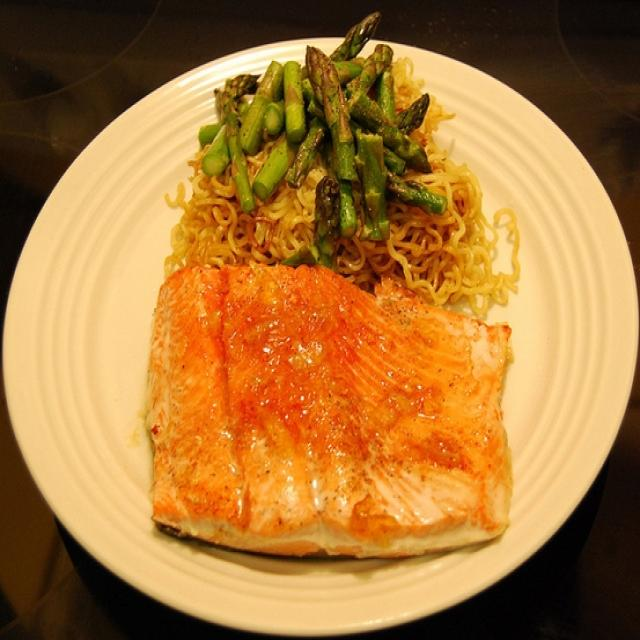熟制海鲜: (7, 23, 625, 616)
